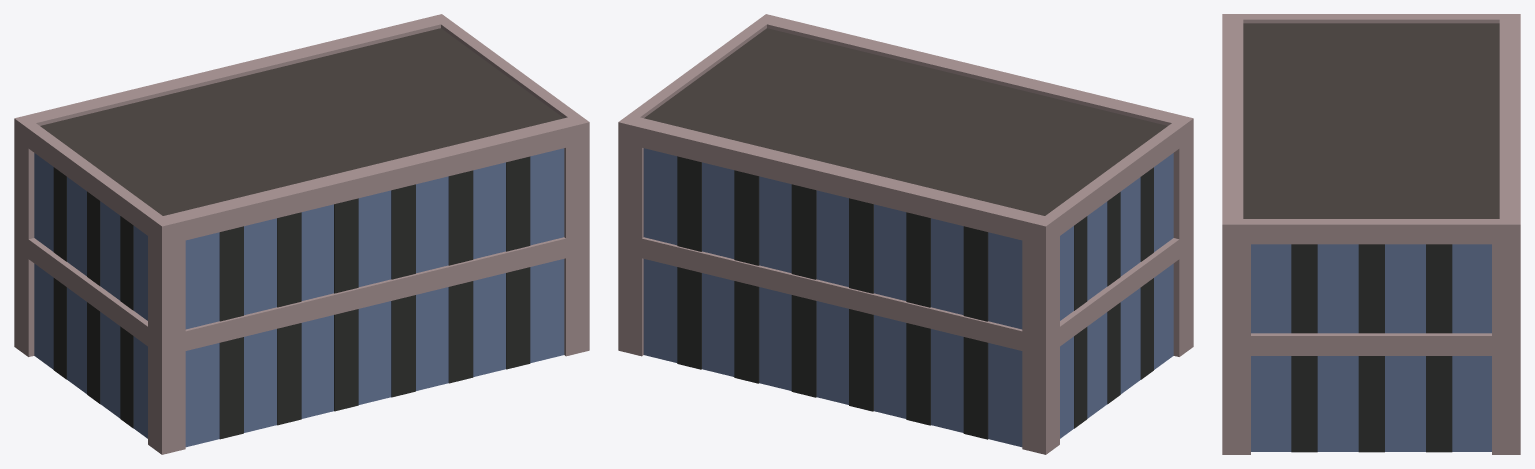
File: Building_Misc_05.fbx
3 views of the same model, side by side, from view 1: azimuth 30°, elevation 25°; view 2: azimuth 150°, elevation 25°; view 3: azimuth 270°, elevation 25° (orthographic).
Parts seen in each view (by area): view 1: Building_Misc_05; view 2: Building_Misc_05; view 3: Building_Misc_05.
Boxes of the visible parts, <box> form: Building_Misc_05: <box>14,14,589,454</box>; Building_Misc_05: <box>618,14,1193,454</box>; Building_Misc_05: <box>1222,14,1520,454</box>.
Bounding box in the file's own units: 27.62 × 14.1 × 16.53.
